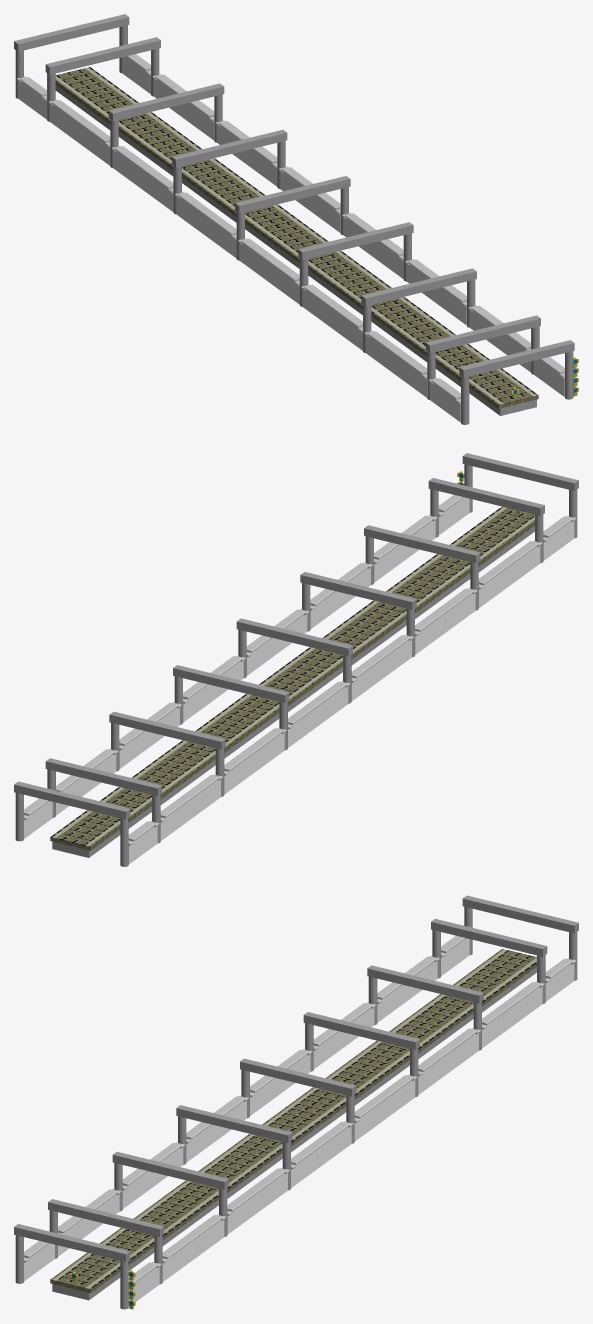
The model's file is Tricentenario.fbx.
3 views of the same model, one above another, from view 1: azimuth 30°, elevation 25°; view 2: azimuth 150°, elevation 25°; view 3: azimuth 330°, elevation 25° (orthographic).
Parts seen in each view (by area): view 1: Estacion Tricen, ejemplos; view 2: Estacion Tricen, ejemplos; view 3: Estacion Tricen, ejemplos.
Boxes of the visible parts, left/top/right/bottom form: Estacion Tricen, ejemplos: left=14, top=14, right=578, bottom=424; Estacion Tricen, ejemplos: left=14, top=453, right=578, bottom=866; Estacion Tricen, ejemplos: left=14, top=895, right=578, bottom=1309.
Size of the model in its own units: 6500 by 2900 by 42700.
